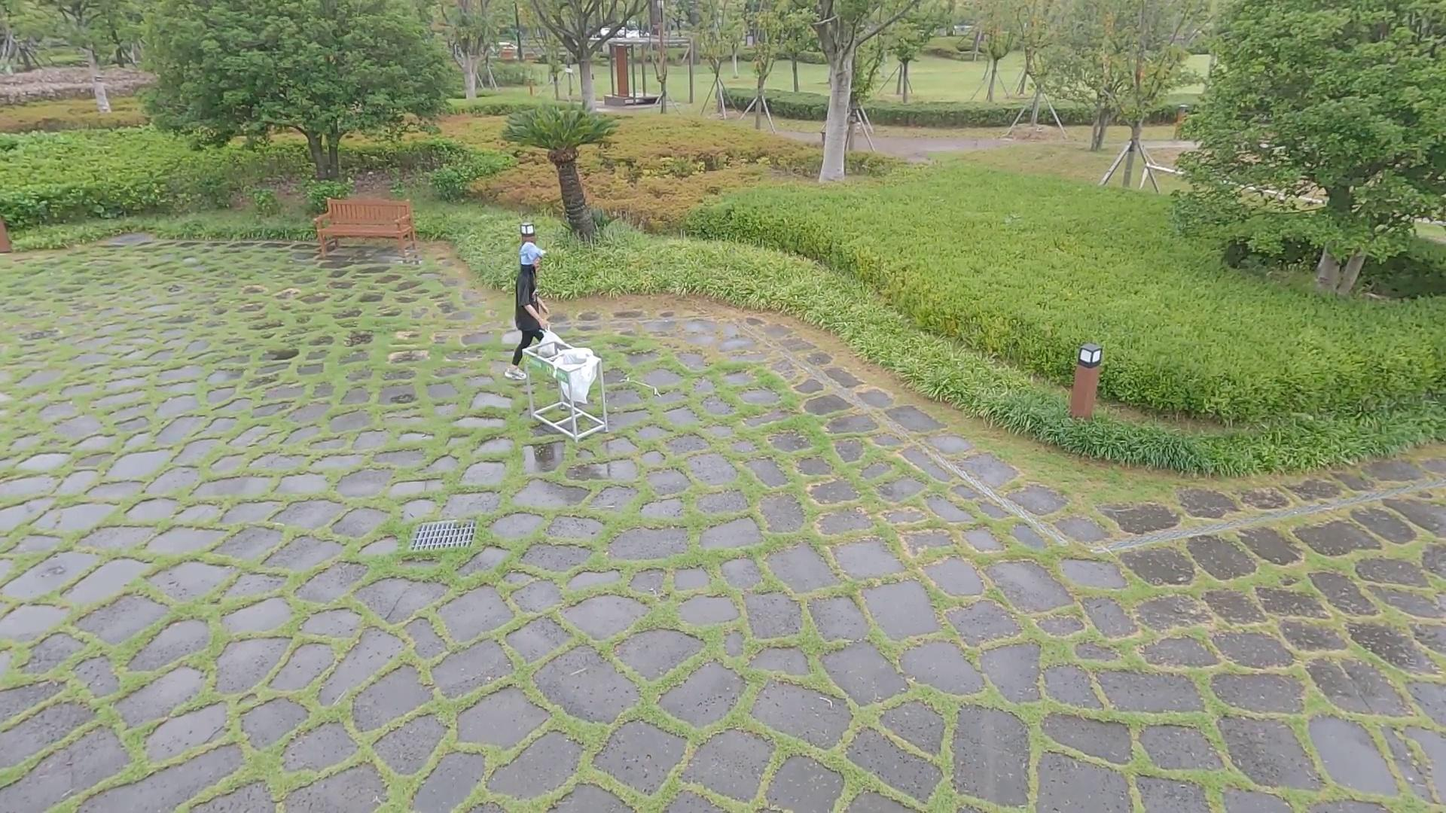person: (507, 240, 559, 382)
trash: (537, 322, 573, 359)
